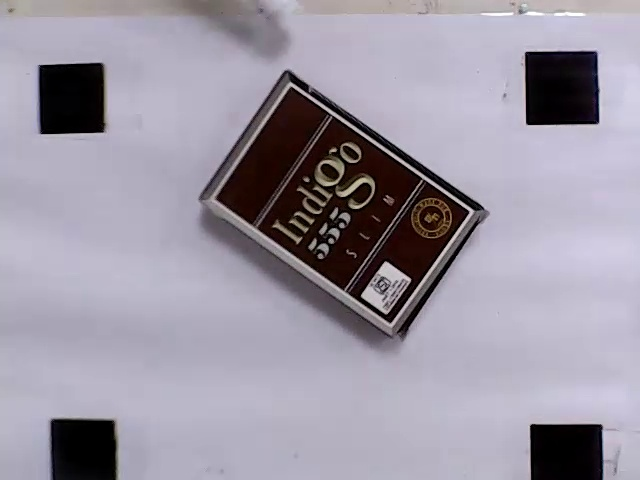BEX: (214, 85, 471, 324)
